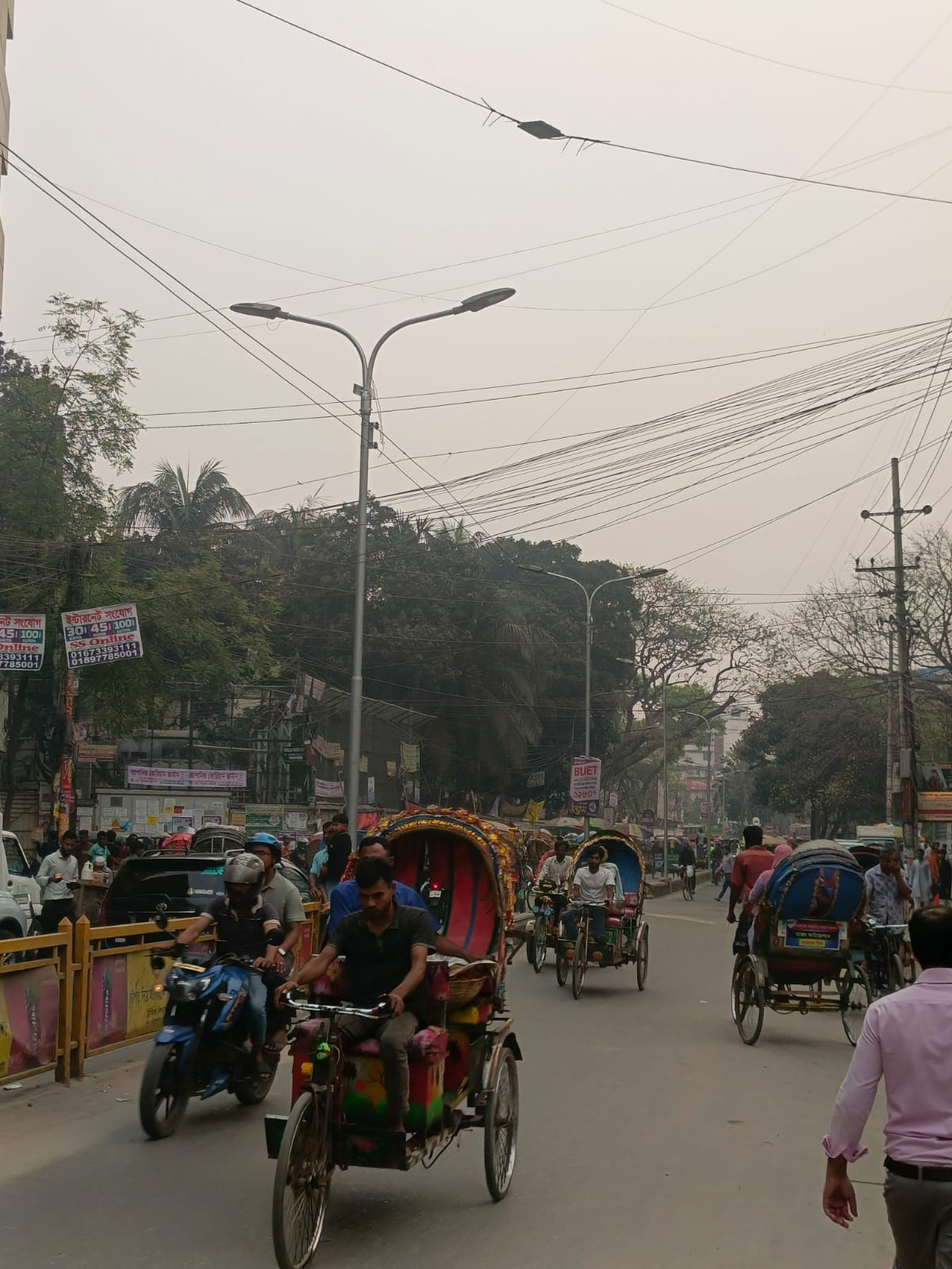Bikes: (124, 834, 290, 1136)
auto-ricksaw: (283, 798, 524, 1269), (522, 820, 667, 1000)
